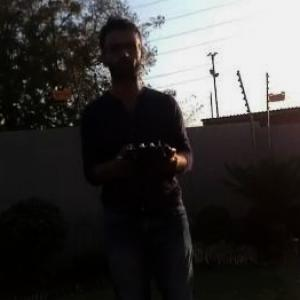follow: (76, 10, 202, 299)
